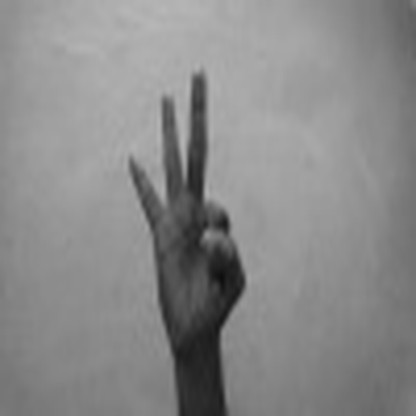f: (125, 59, 247, 327)
